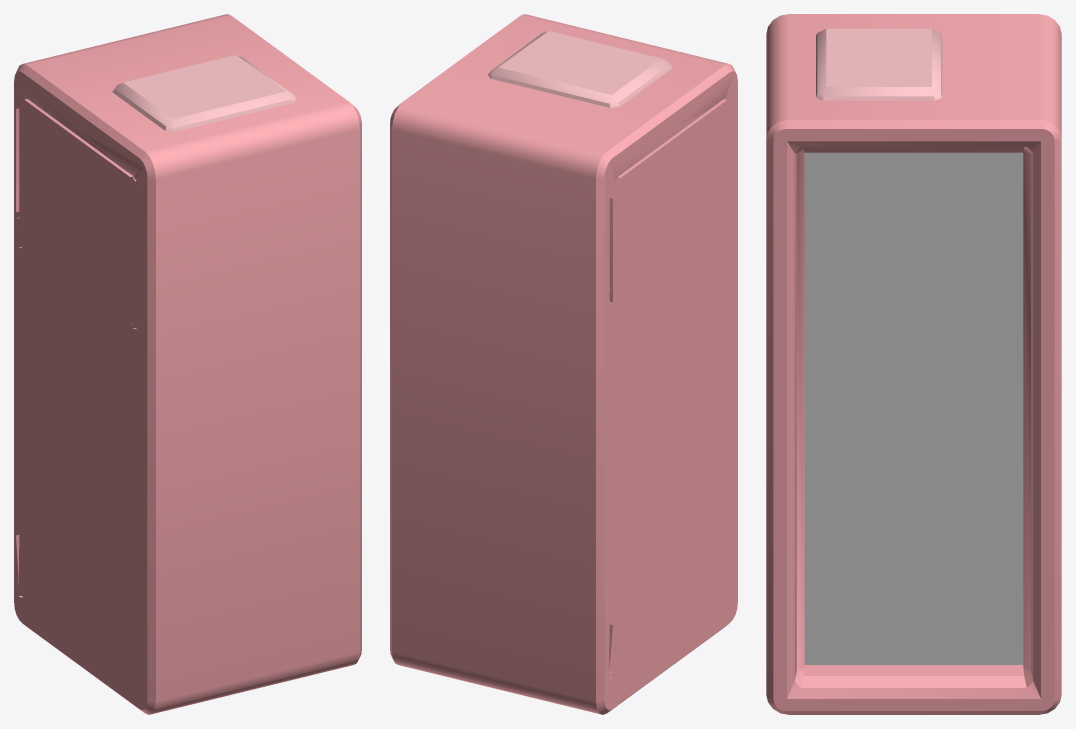
File: frigo avec étagères.fbx
3 views of the same model, side by side, from view 1: azimuth 30°, elevation 25°; view 2: azimuth 150°, elevation 25°; view 3: azimuth 270°, elevation 25° (orthographic). The views are drawn at different scales.
Parts seen in each view (by area): view 1: fridge.004; view 2: fridge.004; view 3: fridge.004.
Part boxes in pixels (left/top/right/bottom): fridge.004: left=14, top=14, right=361, bottom=714; fridge.004: left=390, top=14, right=737, bottom=714; fridge.004: left=766, top=14, right=1061, bottom=714.
Size of the model in its own units: 89.6 by 224 by 99.3.
